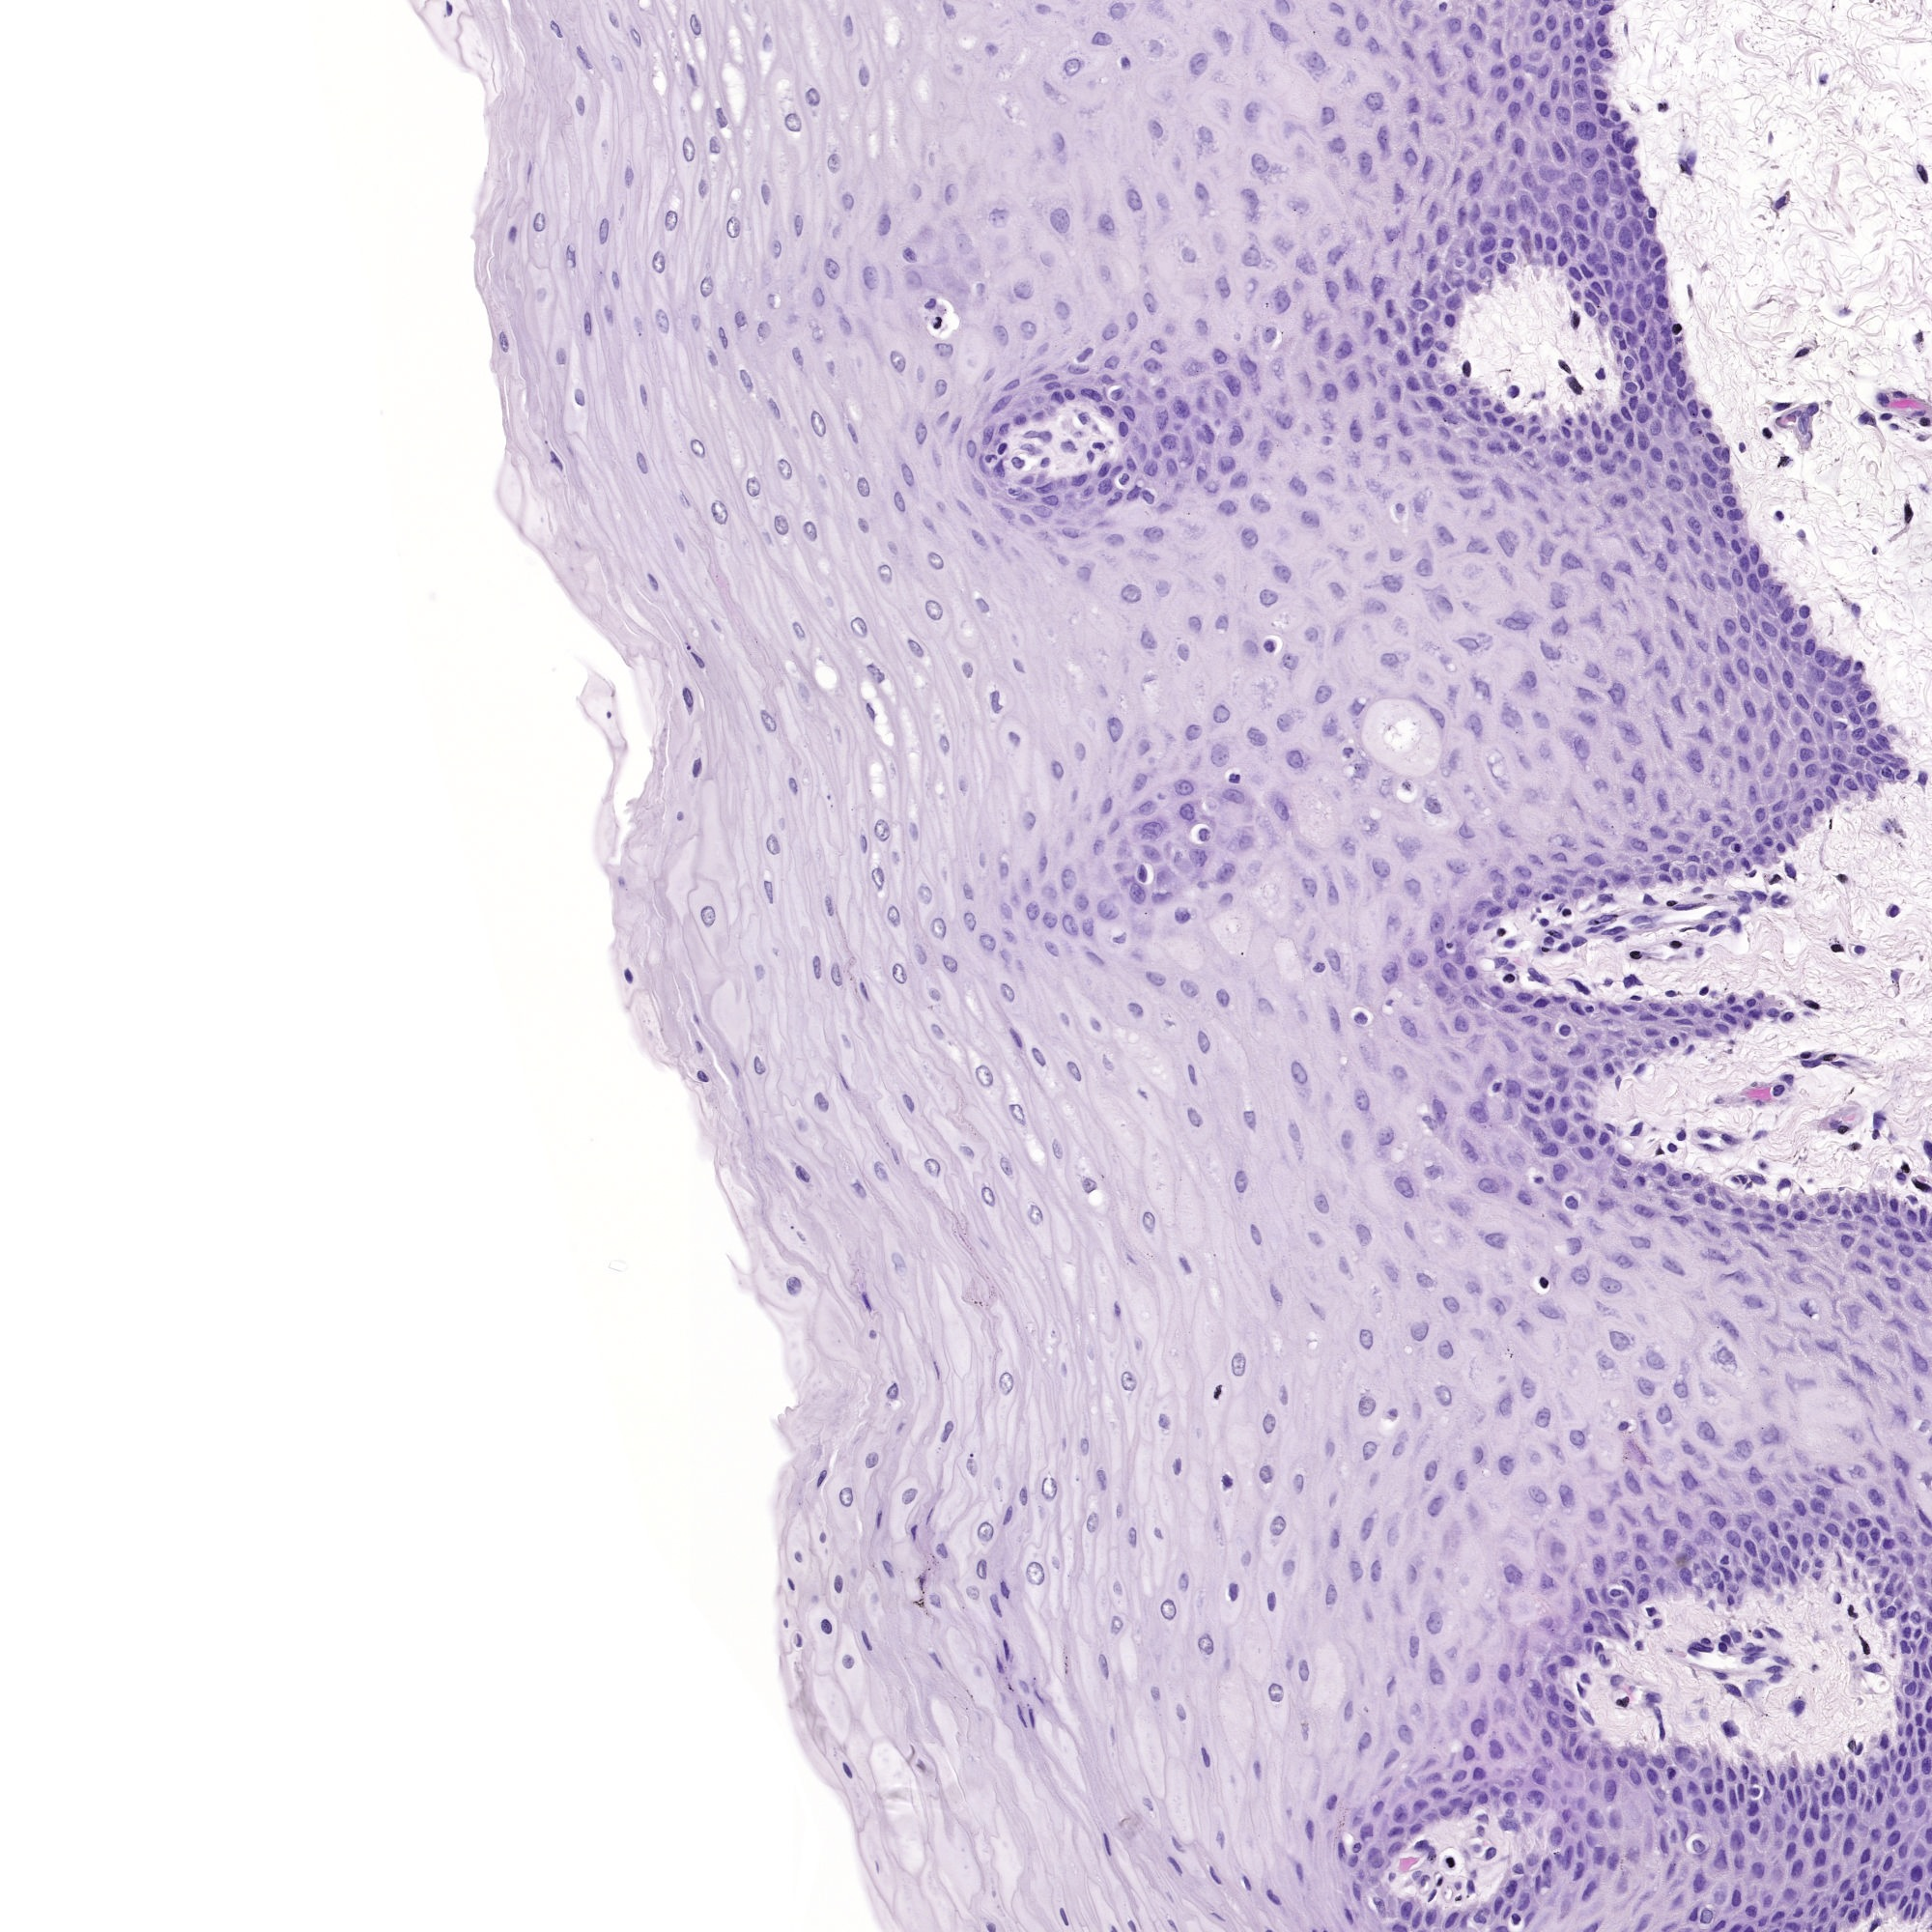apoptosis / civiatte body: (1449, 416, 1458, 419)
epithelial: (1102, 909, 1115, 916), (1504, 1458, 1509, 1472), (1056, 216, 1063, 225), (1437, 985, 1444, 993), (1375, 1851, 1378, 1865), (1431, 803, 1437, 812), (1115, 7, 1120, 14), (1196, 58, 1200, 69), (1044, 257, 1054, 260), (1106, 271, 1109, 281), (554, 458, 559, 465), (1341, 35, 1346, 42), (1247, 193, 1253, 200), (1477, 428, 1484, 433), (1720, 1026, 1727, 1031), (1589, 1070, 1594, 1077), (1523, 994, 1529, 1001), (1509, 1007, 1516, 1012), (1468, 971, 1476, 977), (1187, 984, 1192, 991), (918, 948, 922, 959), (1491, 1237, 1499, 1242), (1447, 1302, 1454, 1307), (1495, 1304, 1500, 1311), (1548, 1309, 1555, 1315), (1739, 1224, 1746, 1230), (1824, 1343, 1831, 1348), (1702, 1431, 1709, 1437), (1741, 1445, 1746, 1453), (1539, 1414, 1545, 1421), (1628, 1481, 1635, 1486), (1679, 1516, 1686, 1522), (1536, 1686, 1539, 1697), (1877, 1787, 1881, 1798), (1592, 1815, 1598, 1822), (587, 320, 591, 329), (1200, 324, 1203, 333), (1514, 625, 1523, 628), (1065, 529, 1074, 533), (1111, 541, 1120, 545), (1652, 1007, 1661, 1010), (1573, 1244, 1576, 1253), (1476, 1451, 1479, 1460), (1302, 1668, 1306, 1677), (1890, 1815, 1893, 1824), (1836, 1792, 1840, 1801), (1394, 1829, 1403, 1833), (1412, 1826, 1421, 1829), (1868, 1905, 1872, 1914), (860, 487, 865, 492), (1099, 469, 1104, 474), (1219, 35, 1224, 41), (1403, 4, 1408, 9), (1606, 51, 1612, 57), (1707, 479, 1713, 485), (1629, 734, 1635, 740), (1631, 1039, 1637, 1044), (1539, 1054, 1545, 1060), (1562, 1102, 1568, 1108), (1387, 971, 1392, 977), (1460, 1021, 1465, 1026), (1134, 1007, 1139, 1012), (1005, 989, 1010, 994), (948, 961, 954, 966), (878, 1171, 883, 1177), (791, 1284, 796, 1290), (1401, 1185, 1407, 1191), (1557, 1168, 1562, 1173), (1608, 1283, 1614, 1288), (1709, 1224, 1714, 1230), (1845, 1238, 1851, 1244), (1891, 1283, 1897, 1288), (1798, 1253, 1803, 1258), (1686, 1481, 1691, 1486), (1755, 1476, 1760, 1481), (1433, 1504, 1438, 1509), (1702, 1771, 1707, 1776), (1527, 1859, 1532, 1865), (1155, 127, 1159, 134), (828, 267, 832, 274), (1258, 163, 1261, 170), (1435, 58, 1438, 65), (1221, 283, 1224, 290), (1472, 180, 1476, 188), (1506, 257, 1513, 260), (1622, 237, 1626, 244), (1698, 706, 1706, 709), (1150, 534, 1157, 538), (1472, 722, 1476, 729), (1622, 564, 1626, 571), (1638, 771, 1642, 778), (1039, 511, 1046, 515), (1083, 571, 1086, 579), (1410, 839, 1414, 846), (1486, 1072, 1490, 1079), (1474, 1108, 1477, 1115), (1090, 954, 1097, 957), (819, 1099, 823, 1106), (759, 1065, 763, 1072), (1293, 1129, 1297, 1136), (1444, 1345, 1447, 1352), (1601, 1201, 1608, 1205), (1619, 1336, 1622, 1343), (1916, 1300, 1920, 1307), (1750, 1299, 1753, 1306), (1859, 1364, 1867, 1368), (1794, 1382, 1808, 1384), (1644, 1384, 1647, 1391), (1633, 1451, 1637, 1458), (1442, 1394, 1445, 1401), (1591, 1594, 1594, 1601), (1884, 1760, 1888, 1767), (1789, 1792, 1792, 1799), (1495, 1750, 1499, 1757), (1821, 1854, 1824, 1861), (1398, 1812, 1401, 1819), (1364, 1828, 1368, 1835), (1389, 1755, 1392, 1762), (1154, 48, 1157, 53), (1201, 191, 1205, 196), (1132, 198, 1136, 203), (1185, 253, 1189, 258), (996, 218, 1001, 221), (1155, 345, 1161, 349), (1106, 377, 1109, 382), (1104, 407, 1108, 412), (1315, 60, 1318, 65), (1407, 50, 1410, 55), (1338, 143, 1341, 149), (1408, 154, 1412, 159), (1456, 173, 1461, 177), (1599, 92, 1603, 97), (1628, 161, 1631, 166), (1537, 189, 1541, 195), (1637, 196, 1642, 200), (1642, 414, 1645, 419), (1180, 405, 1184, 410), (1435, 403, 1440, 407), (1168, 441, 1169, 451), (1421, 405, 1424, 410), (1562, 458, 1566, 464), (1711, 464, 1716, 467), (1875, 759, 1881, 763), (1767, 628, 1773, 632), (1778, 807, 1783, 810), (1702, 732, 1706, 738), (1230, 794, 1235, 798), (1442, 529, 1445, 534), (1461, 474, 1465, 479), (1504, 540, 1507, 545), (1440, 605, 1445, 609), (1557, 594, 1560, 600), (1697, 525, 1700, 531), (1675, 635, 1679, 640), (1024, 517, 1028, 522), (860, 524, 863, 529), (1010, 734, 1014, 740), (1150, 828, 1154, 833), (1079, 901, 1083, 906), (1178, 915, 1184, 918), (1522, 872, 1525, 878), (1638, 842, 1642, 847), (1575, 1005, 1578, 1010), (1559, 1083, 1562, 1088), (1582, 1100, 1587, 1104), (1534, 1093, 1539, 1097), (1486, 924, 1490, 929), (1394, 920, 1398, 925), (1334, 957, 1338, 962), (1470, 1001, 1474, 1007), (1442, 1026, 1445, 1031), (1405, 1023, 1408, 1028), (1295, 1069, 1299, 1074), (1221, 994, 1224, 1000), (908, 1100, 911, 1106), (1256, 1235, 1260, 1240), (1391, 1270, 1394, 1276), (1362, 1231, 1366, 1237), (1384, 1134, 1389, 1138), (1465, 1150, 1470, 1154), (1422, 1277, 1426, 1283), (1525, 1120, 1529, 1125), (1546, 1150, 1552, 1154), (1658, 1168, 1663, 1171), (1698, 1196, 1702, 1201), (1881, 1242, 1886, 1246), (1923, 1261, 1927, 1267), (1897, 1322, 1902, 1325), (1806, 1306, 1810, 1311), (1729, 1325, 1732, 1330), (1918, 1361, 1923, 1364), (1663, 1412, 1667, 1417), (1555, 1449, 1559, 1454), (1430, 1468, 1433, 1474), (1835, 1474, 1840, 1477), (1100, 1474, 1104, 1479), (869, 1458, 874, 1461), (835, 1582, 839, 1587), (1355, 1566, 1357, 1576), (1371, 1477, 1375, 1483), (1599, 1513, 1603, 1518), (1599, 1560, 1603, 1566), (1552, 1668, 1555, 1674), (1640, 1560, 1644, 1566), (1640, 1539, 1644, 1545), (1707, 1497, 1711, 1502), (1706, 1562, 1709, 1568), (1875, 1587, 1881, 1591), (1859, 1773, 1863, 1778), (1902, 1851, 1905, 1856), (1914, 1870, 1918, 1875), (1698, 1879, 1702, 1884), (1737, 1838, 1741, 1844), (1594, 1783, 1598, 1789), (1537, 1773, 1541, 1778), (1437, 1792, 1442, 1796), (1417, 1803, 1421, 1808), (1307, 1829, 1311, 1835), (1415, 1918, 1419, 1923), (1495, 1902, 1499, 1907), (847, 21, 849, 30), (559, 350, 561, 359), (662, 318, 663, 327), (642, 391, 644, 400), (1283, 299, 1284, 308), (1414, 959, 1422, 961), (971, 1465, 973, 1474), (1332, 1589, 1334, 1598), (1412, 1573, 1414, 1582), (1504, 1668, 1506, 1677), (1683, 1824, 1684, 1833), (1642, 1897, 1651, 1898), (1100, 39, 1104, 42), (1070, 65, 1074, 69), (1058, 140, 1062, 143), (1164, 202, 1168, 205), (913, 189, 916, 193), (961, 241, 964, 244), (870, 276, 874, 280), (796, 354, 800, 357), (747, 375, 748, 382), (709, 354, 711, 361), (642, 460, 644, 467), (908, 474, 911, 478), (989, 373, 993, 377), (1150, 364, 1154, 368), (1279, 34, 1283, 37), (1373, 44, 1376, 48), (1251, 106, 1253, 113), (1428, 165, 1430, 172), (1412, 126, 1415, 129), (1495, 44, 1497, 51), (1306, 264, 1309, 267), (1348, 281, 1352, 285), (1376, 281, 1378, 288), (1421, 239, 1422, 246), (1545, 110, 1548, 113), (1545, 172, 1552, 173), (1562, 209, 1566, 212), (1637, 226, 1640, 230), (1472, 287, 1476, 290), (1453, 299, 1456, 303), (1389, 306, 1392, 310), (1569, 241, 1571, 248), (1656, 251, 1660, 255), (1594, 287, 1598, 290), (1626, 315, 1629, 318), (1628, 361, 1631, 364), (1192, 368, 1196, 372), (1403, 356, 1405, 363), (1534, 430, 1537, 433), (1329, 391, 1332, 395), (1205, 432, 1207, 439), (1226, 464, 1230, 467), (1267, 446, 1269, 453), (1378, 407, 1380, 414), (1490, 446, 1493, 449), (1833, 685, 1836, 688), (1806, 732, 1810, 736), (1141, 449, 1143, 456), (1132, 490, 1136, 494), (1146, 640, 1150, 644), (1486, 513, 1490, 517), (1529, 494, 1532, 497), (1389, 660, 1392, 663), (1483, 686, 1486, 690), (1507, 715, 1511, 718), (1610, 580, 1614, 584), (1661, 559, 1663, 566), (1767, 711, 1769, 718), (1007, 513, 1010, 517), (1056, 764, 1058, 771), (706, 915, 709, 918), (828, 906, 832, 909), (1005, 908, 1007, 915), (1069, 876, 1070, 883), (1138, 893, 1141, 897), (1240, 839, 1244, 842), (780, 522, 782, 529), (1663, 865, 1667, 869), (1658, 832, 1661, 835), (1725, 839, 1729, 842), (1688, 1008, 1691, 1012), (1644, 1016, 1651, 1017), (1629, 1007, 1633, 1010), (1658, 1042, 1661, 1046), (1631, 1051, 1635, 1054), (1606, 1067, 1610, 1070), (1557, 1069, 1560, 1072), (1530, 1106, 1534, 1109), (1509, 1088, 1513, 1092), (1559, 1125, 1562, 1129), (1438, 947, 1442, 950), (1334, 1016, 1336, 1023), (1362, 1100, 1364, 1108), (1300, 1016, 1304, 1019), (1191, 1072, 1194, 1076), (1194, 1116, 1198, 1120), (985, 939, 989, 943), (1072, 1067, 1076, 1070), (1039, 1056, 1042, 1060), (934, 1030, 938, 1033), (835, 971, 837, 978), (1086, 1182, 1090, 1185), (1146, 1221, 1150, 1224), (1318, 1203, 1322, 1207), (1311, 1237, 1315, 1240), (1316, 1309, 1320, 1313), (1368, 1336, 1369, 1343), (1431, 1169, 1435, 1173), (1537, 1132, 1541, 1136), (1621, 1182, 1624, 1185), (1576, 1274, 1580, 1277), (1477, 1330, 1481, 1334), (1709, 1254, 1716, 1256), (1714, 1203, 1718, 1207), (1764, 1226, 1767, 1230), (1766, 1215, 1769, 1219), (1783, 1210, 1787, 1214), (1863, 1200, 1867, 1203), (1891, 1219, 1895, 1223), (1905, 1249, 1909, 1253), (1852, 1313, 1854, 1320), (1898, 1410, 1902, 1414), (1723, 1355, 1727, 1359), (1679, 1389, 1683, 1392), (1769, 1435, 1773, 1438), (1576, 1435, 1578, 1442), (1686, 1447, 1690, 1451), (1644, 1424, 1645, 1431), (1856, 1472, 1859, 1476), (1874, 1460, 1877, 1463), (1898, 1463, 1905, 1465), (1283, 1391, 1284, 1398), (1267, 1422, 1269, 1430), (1237, 1361, 1238, 1368), (1299, 1479, 1300, 1486), (821, 1476, 824, 1479), (1394, 1601, 1398, 1605), (1451, 1652, 1454, 1656), (1511, 1571, 1514, 1575), (1539, 1495, 1543, 1499), (1472, 1670, 1474, 1677), (1688, 1550, 1691, 1553), (1683, 1575, 1686, 1578), (1644, 1576, 1647, 1580), (1727, 1573, 1730, 1576), (1759, 1532, 1762, 1536), (1750, 1548, 1753, 1552), (1773, 1548, 1776, 1552), (1773, 1527, 1776, 1530), (1766, 1495, 1769, 1499), (1882, 1522, 1886, 1525), (1874, 1532, 1877, 1536), (1904, 1647, 1907, 1651), (1548, 1736, 1550, 1743), (1640, 1759, 1644, 1762), (1651, 1771, 1652, 1778), (1679, 1755, 1683, 1759), (1691, 1762, 1693, 1769), (1729, 1773, 1732, 1776), (1808, 1835, 1810, 1842), (1663, 1845, 1667, 1849), (1753, 1822, 1757, 1826), (1566, 1856, 1568, 1863), (1589, 1836, 1591, 1844), (1463, 1787, 1467, 1790), (1392, 1845, 1396, 1849), (1408, 1780, 1412, 1783), (1256, 1764, 1258, 1771), (844, 1767, 847, 1771), (1789, 1893, 1792, 1897), (1877, 1897, 1881, 1900), (612, 18, 614, 23), (580, 103, 582, 108), (718, 115, 720, 120), (511, 232, 513, 237), (950, 7, 952, 12), (1203, 133, 1205, 138), (1108, 223, 1109, 228), (764, 189, 766, 195), (847, 200, 849, 205), (1150, 299, 1152, 304), (1129, 410, 1131, 416), (998, 467, 1000, 472), (1028, 479, 1030, 485), (1327, 113, 1329, 119), (1371, 101, 1376, 103), (1456, 25, 1458, 30), (1476, 30, 1477, 35), (1516, 81, 1518, 87), (1589, 41, 1591, 46), (1431, 209, 1433, 214), (1500, 94, 1506, 96), (1619, 138, 1621, 143), (1431, 262, 1433, 267), (1548, 218, 1550, 223), (1693, 405, 1695, 410), (1320, 336, 1322, 341), (1343, 349, 1348, 350), (1382, 334, 1384, 340), (1415, 343, 1417, 349), (1350, 379, 1352, 384), (1238, 479, 1240, 485), (1467, 442, 1472, 444), (1582, 455, 1587, 456), (1679, 446, 1681, 451), (1898, 761, 1904, 763), (1723, 644, 1725, 649), (1744, 665, 1746, 671), (1801, 701, 1803, 706), (1824, 752, 1826, 757), (1833, 778, 1835, 784), (1743, 731, 1744, 736), (1663, 734, 1665, 740), (1129, 460, 1131, 465), (1150, 465, 1152, 471), (943, 741, 945, 747), (1108, 803, 1109, 809), (1028, 817, 1030, 823), (1042, 862, 1044, 867), (1152, 855, 1157, 856), (899, 497, 901, 502), (1435, 920, 1437, 925), (1481, 904, 1486, 906), (1640, 879, 1645, 881), (1670, 1012, 1675, 1014), (1683, 1021, 1688, 1023), (1649, 1031, 1654, 1033), (1539, 1003, 1545, 1005), (1546, 1026, 1548, 1031), (1548, 1102, 1550, 1108), (1438, 1109, 1440, 1115), (1203, 1039, 1205, 1044), (1154, 980, 1159, 982), (1053, 947, 1054, 952), (628, 973, 630, 978), (1116, 1307, 1118, 1313), (1573, 1136, 1575, 1141), (1583, 1152, 1589, 1154), (1589, 1129, 1591, 1134), (1605, 1136, 1606, 1141), (1644, 1210, 1649, 1212), (1913, 1215, 1914, 1221), (1884, 1260, 1890, 1261), (1654, 1355, 1656, 1361), (1566, 1490, 1568, 1495), (1366, 1403, 1368, 1408), (1368, 1447, 1369, 1453), (1329, 1447, 1330, 1453), (847, 1658, 849, 1663), (1376, 1569, 1378, 1575), (1596, 1615, 1601, 1617), (1704, 1537, 1709, 1539), (1739, 1575, 1741, 1580), (1801, 1504, 1803, 1509), (1854, 1507, 1859, 1509), (1916, 1615, 1918, 1621), (1555, 1720, 1557, 1725), (1568, 1720, 1569, 1725), (1580, 1752, 1582, 1757), (1928, 1783, 1930, 1789), (1911, 1787, 1913, 1792), (1893, 1787, 1895, 1792), (1847, 1847, 1849, 1852), (1852, 1785, 1854, 1790), (1826, 1794, 1828, 1799), (1813, 1806, 1815, 1812), (1716, 1783, 1718, 1789), (1656, 1810, 1661, 1812), (1757, 1868, 1759, 1874), (1614, 1815, 1615, 1821), (1557, 1836, 1559, 1842), (1598, 1854, 1599, 1859), (1516, 1867, 1518, 1872), (1477, 1771, 1479, 1776), (1458, 1776, 1463, 1778), (1442, 1810, 1447, 1812), (1507, 1824, 1513, 1826), (1509, 1884, 1514, 1886), (1403, 1730, 1405, 1736), (1182, 1711, 1184, 1716), (1221, 1835, 1223, 1840), (1272, 1893, 1274, 1898), (1359, 1891, 1361, 1897), (1529, 1914, 1530, 1920), (1621, 1882, 1622, 1888), (1891, 1884, 1897, 1886), (448, 7, 449, 11), (713, 145, 715, 149), (1042, 7, 1044, 11), (908, 253, 909, 257), (1019, 287, 1021, 290), (1063, 310, 1065, 313), (817, 295, 819, 299), (635, 322, 639, 324), (943, 350, 947, 352), (1012, 384, 1016, 386), (1000, 403, 1003, 405), (1021, 418, 1023, 421), (1046, 377, 1049, 379), (1051, 384, 1054, 386), (1069, 395, 1072, 396), (1077, 368, 1079, 372), (1090, 393, 1093, 395), (984, 467, 985, 471), (1284, 5, 1286, 9), (1361, 18, 1362, 21), (1481, 12, 1483, 16), (1495, 71, 1499, 73), (1514, 60, 1516, 64), (1537, 35, 1539, 39), (1543, 71, 1545, 74), (1605, 9, 1608, 11), (1580, 90, 1582, 94), (1576, 71, 1580, 73), (1247, 257, 1251, 258), (1513, 108, 1514, 111), (1594, 64, 1596, 67), (1580, 42, 1582, 46), (1606, 120, 1608, 124), (1615, 117, 1619, 119), (1612, 150, 1614, 154), (1557, 150, 1559, 154), (1599, 175, 1601, 179), (1615, 166, 1617, 170), (1619, 188, 1621, 191), (1599, 195, 1601, 198), (1527, 202, 1529, 205), (1470, 246, 1472, 249), (1580, 219, 1582, 223), (1484, 271, 1486, 274), (1445, 288, 1447, 292), (1431, 294, 1433, 297), (1525, 246, 1527, 249), (1642, 242, 1644, 246), (1660, 265, 1663, 267), (1645, 297, 1647, 301), (1622, 341, 1624, 345), (1658, 313, 1660, 317), (1649, 373, 1651, 377), (1246, 366, 1247, 370), (1426, 343, 1430, 345), (1428, 379, 1430, 382), (1449, 391, 1453, 393), (1474, 393, 1477, 395), (1518, 428, 1520, 432), (1541, 437, 1543, 441), (1578, 433, 1580, 437), (1327, 439, 1329, 442), (1514, 444, 1516, 448), (1654, 425, 1656, 428), (1727, 453, 1729, 456), (1723, 471, 1725, 474), (1736, 513, 1737, 517), (1736, 575, 1737, 579), (1753, 582, 1755, 586), (1766, 587, 1767, 591), (1785, 614, 1789, 616), (1808, 646, 1810, 649), (1821, 658, 1824, 660), (1842, 671, 1844, 674), (1872, 706, 1874, 709), (1884, 741, 1886, 745), (1875, 747, 1877, 750), (1902, 775, 1905, 777), (1886, 771, 1890, 773), (1854, 717, 1856, 720), (1836, 704, 1838, 708), (1760, 639, 1762, 642), (1732, 626, 1734, 630), (1729, 676, 1730, 679), (1787, 676, 1789, 679), (1819, 718, 1821, 722), (1806, 754, 1808, 757), (1840, 727, 1844, 729), (1838, 752, 1840, 755), (1838, 768, 1842, 770), (1773, 736, 1775, 740), (1760, 812, 1762, 816), (1801, 794, 1805, 796), (1829, 791, 1831, 794), (1637, 492, 1638, 495), (1258, 501, 1260, 504), (1127, 591, 1129, 594), (1162, 586, 1164, 589), (1279, 809, 1281, 812), (1295, 757, 1297, 761), (1254, 732, 1256, 736), (1323, 694, 1327, 695), (1336, 587, 1338, 591), (1378, 605, 1380, 609), (1468, 494, 1470, 497), (1504, 487, 1506, 490), (1440, 715, 1444, 717), (1548, 651, 1552, 653), (1672, 543, 1674, 547), (1670, 603, 1672, 607), (1585, 718, 1589, 720), (1583, 690, 1585, 694), (1619, 692, 1621, 695), (1051, 501, 1054, 502), (975, 538, 978, 540), (653, 580, 655, 584), (699, 662, 701, 665), (688, 697, 690, 701), (916, 648, 920, 649), (982, 605, 985, 607), (1115, 729, 1116, 732), (1079, 750, 1081, 754), (1030, 909, 1031, 913), (1049, 918, 1051, 922), (1069, 925, 1070, 929), (1111, 826, 1115, 828), (1196, 856, 1200, 858), (1161, 897, 1162, 901), (1309, 885, 1311, 888), (1088, 927, 1090, 931), (970, 916, 971, 920), (876, 674, 878, 678), (678, 814, 681, 816), (1376, 865, 1380, 867), (1412, 885, 1414, 888), (1504, 828, 1506, 832), (1562, 879, 1566, 881), (1594, 860, 1596, 863), (1661, 876, 1665, 878), (1677, 872, 1679, 876), (1709, 870, 1711, 874), (1737, 1007, 1741, 1008), (1707, 1014, 1711, 1016), (1704, 1031, 1707, 1033), (1578, 1051, 1580, 1054), (1606, 1053, 1610, 1054), (1591, 1035, 1592, 1039), (1506, 1042, 1509, 1044), (1449, 970, 1451, 973), (1497, 993, 1499, 996), (1399, 1070, 1403, 1072), (1251, 1116, 1253, 1120), (1008, 934, 1012, 936), (1108, 1063, 1109, 1067), (1016, 1035, 1017, 1039), (934, 994, 938, 996), (865, 989, 867, 993), (701, 1076, 702, 1079), (695, 1016, 697, 1019), (858, 1189, 862, 1191), (893, 1154, 895, 1157), (966, 1150, 970, 1152), (1005, 1164, 1007, 1168), (1058, 1148, 1060, 1152), (865, 1299, 867, 1302), (872, 1332, 874, 1336), (1184, 1261, 1185, 1265), (1274, 1292, 1276, 1295), (1343, 1267, 1346, 1269), (1348, 1139, 1350, 1143), (1408, 1230, 1410, 1233), (1488, 1185, 1490, 1189), (1419, 1329, 1421, 1332), (1525, 1196, 1527, 1200), (1562, 1219, 1566, 1221), (1640, 1242, 1644, 1244), (1622, 1260, 1624, 1263), (1525, 1327, 1529, 1329), (1672, 1178, 1674, 1182), (1672, 1267, 1674, 1270), (1760, 1247, 1762, 1251), (1764, 1203, 1767, 1205), (1798, 1215, 1799, 1219), (1794, 1200, 1796, 1203), (1822, 1196, 1824, 1200), (1831, 1208, 1833, 1212), (1868, 1219, 1872, 1221), (1902, 1235, 1905, 1237), (1844, 1226, 1847, 1228), (1863, 1251, 1867, 1253), (1861, 1265, 1865, 1267), (1874, 1297, 1875, 1300), (1794, 1276, 1798, 1277), (1605, 1359, 1606, 1362), (1525, 1387, 1527, 1391), (1506, 1405, 1507, 1408), (1656, 1479, 1658, 1483), (1900, 1486, 1902, 1490), (1417, 1408, 1419, 1412), (1399, 1447, 1401, 1451), (1265, 1474, 1267, 1477), (1162, 1421, 1166, 1422), (1136, 1341, 1138, 1345), (892, 1389, 893, 1392), (821, 1536, 823, 1539), (791, 1583, 793, 1587), (888, 1566, 890, 1569), (936, 1599, 938, 1603), (1134, 1534, 1136, 1537), (1182, 1580, 1184, 1583), (1330, 1499, 1332, 1502), (1369, 1612, 1371, 1615), (1437, 1675, 1440, 1677), (1548, 1582, 1550, 1585), (1546, 1622, 1548, 1626), (1605, 1631, 1608, 1633), (1628, 1516, 1631, 1518), (1651, 1514, 1652, 1518), (1716, 1518, 1718, 1522), (1709, 1585, 1713, 1587), (1714, 1576, 1716, 1580), (1744, 1522, 1746, 1525), (1730, 1587, 1734, 1589), (1778, 1568, 1780, 1571), (1792, 1575, 1794, 1578), (1819, 1506, 1821, 1509), (1792, 1539, 1794, 1543), (1803, 1566, 1805, 1569), (1815, 1573, 1819, 1575), (1819, 1562, 1821, 1566), (1824, 1537, 1826, 1541), (1847, 1541, 1849, 1545), (1900, 1536, 1904, 1537), (1874, 1562, 1877, 1564), (1923, 1582, 1925, 1585), (1856, 1573, 1858, 1576), (1900, 1603, 1904, 1605), (1927, 1670, 1928, 1674), (1587, 1644, 1589, 1647), (1571, 1739, 1573, 1743), (1911, 1688, 1914, 1690), (1907, 1709, 1909, 1713), (1923, 1739, 1925, 1743), (1913, 1748, 1914, 1752), (1902, 1748, 1904, 1752), (1893, 1753, 1895, 1757), (1585, 1714, 1589, 1716), (1606, 1762, 1608, 1766), (1660, 1760, 1661, 1764), (1633, 1775, 1635, 1778), (1718, 1764, 1720, 1767), (1769, 1776, 1771, 1780), (1833, 1760, 1835, 1764), (1905, 1805, 1907, 1808), (1886, 1863, 1888, 1867), (1851, 1819, 1852, 1822), (1801, 1810, 1803, 1813), (1790, 1851, 1792, 1854), (1691, 1785, 1693, 1789), (1698, 1806, 1700, 1810), (1720, 1861, 1723, 1863), (1568, 1812, 1569, 1815), (1578, 1867, 1580, 1870), (1545, 1762, 1546, 1766), (1454, 1801, 1458, 1803), (1483, 1799, 1486, 1801), (1474, 1790, 1476, 1794), (1493, 1790, 1497, 1792), (1821, 1877, 1822, 1881), (1835, 1870, 1836, 1874), (1845, 1884, 1847, 1888), (1592, 1882, 1594, 1886), (1348, 1713, 1350, 1716), (1391, 1684, 1392, 1688), (1175, 1863, 1178, 1865), (1031, 1718, 1033, 1721), (1021, 1716, 1023, 1720), (1023, 1683, 1024, 1686), (1506, 1909, 1507, 1913), (1591, 1927, 1594, 1928), (1631, 1852, 1633, 1856), (1737, 1895, 1739, 1898), (1693, 1914, 1695, 1918), (1776, 1916, 1780, 1918), (1813, 1909, 1815, 1913), (1842, 1909, 1844, 1913), (554, 27, 556, 28), (582, 57, 584, 58), (633, 35, 635, 37), (1047, 88, 1049, 90), (833, 163, 835, 165), (763, 329, 764, 331), (773, 407, 775, 409), (853, 432, 855, 433), (941, 419, 943, 421), (1039, 416, 1040, 418), (1058, 396, 1060, 398), (1113, 361, 1115, 363), (977, 485, 978, 487), (1578, 23, 1580, 25), (1580, 58, 1582, 60), (1516, 145, 1518, 147), (1601, 108, 1603, 110), (1582, 129, 1583, 131), (1527, 180, 1529, 182), (1576, 182, 1578, 184), (1580, 202, 1582, 203), (1649, 225, 1651, 226), (1488, 228, 1490, 230), (1506, 241, 1507, 242), (1500, 267, 1502, 269), (1454, 278, 1456, 280), (1419, 304, 1421, 306), (1587, 274, 1589, 276), (1591, 258, 1592, 260), (1661, 299, 1663, 301), (1638, 290, 1640, 292), (1591, 306, 1592, 308), (1651, 338, 1652, 340), (1628, 375, 1629, 377), (1631, 386, 1633, 387), (1642, 380, 1644, 382), (1706, 412, 1707, 414), (1651, 396, 1652, 398), (1161, 395, 1162, 396), (1228, 382, 1230, 384), (1424, 329, 1426, 331), (1414, 386, 1415, 387), (1488, 402, 1490, 403), (1474, 402, 1476, 403), (1472, 414, 1474, 416), (1499, 409, 1500, 410), (1491, 416, 1493, 418), (1534, 418, 1536, 419), (1566, 433, 1568, 435), (1403, 428, 1405, 430), (1403, 456, 1405, 458), (1529, 455, 1530, 456), (1674, 426, 1675, 428), (1654, 451, 1656, 453), (1713, 437, 1714, 439), (1697, 432, 1698, 433), (1693, 479, 1695, 481), (1610, 465, 1612, 467), (1601, 448, 1603, 449), (1736, 547, 1737, 548), (1861, 695, 1863, 697), (1874, 725, 1875, 727), (1744, 623, 1746, 625), (1760, 674, 1762, 676), (1785, 701, 1787, 702), (1829, 732, 1831, 734), (1872, 782, 1874, 784), (1851, 784, 1852, 786), (1743, 763, 1744, 764), (1695, 759, 1697, 761), (1691, 617, 1693, 619), (1617, 499, 1619, 501), (1295, 485, 1297, 487), (1249, 536, 1251, 538), (1307, 517, 1309, 518), (1283, 571, 1284, 573), (1184, 648, 1185, 649), (1194, 731, 1196, 732), (1219, 754, 1221, 755), (1184, 789, 1185, 791), (1309, 633, 1311, 635), (1339, 635, 1341, 637), (1391, 582, 1392, 584), (1569, 557, 1571, 559), (1695, 543, 1697, 545), (1046, 488, 1047, 490), (929, 525, 931, 527), (768, 886, 770, 888), (1099, 846, 1100, 847), (867, 709, 869, 711), (1456, 865, 1458, 867), (1534, 858, 1536, 860), (1674, 847, 1675, 849), (1681, 835, 1683, 837), (1729, 863, 1730, 865), (1693, 858, 1695, 860), (1789, 1016, 1790, 1017), (1771, 1012, 1773, 1014), (1753, 1014, 1755, 1016), (1748, 1024, 1750, 1026), (1729, 1016, 1730, 1017), (1720, 1007, 1721, 1008), (1612, 1010, 1614, 1012), (1529, 1021, 1530, 1023), (1493, 911, 1495, 913), (1454, 1054, 1456, 1056), (1263, 1005, 1265, 1007), (1095, 1024, 1097, 1026), (842, 1079, 844, 1081), (800, 1173, 801, 1175), (1472, 1284, 1474, 1286), (1578, 1116, 1580, 1118), (1612, 1127, 1614, 1129), (1622, 1159, 1624, 1161), (1610, 1150, 1612, 1152), (1601, 1306, 1603, 1307), (1660, 1185, 1661, 1187), (1672, 1203, 1674, 1205), (1679, 1219, 1681, 1221), (1709, 1189, 1711, 1191), (1789, 1224, 1790, 1226), (1808, 1203, 1810, 1205), (1847, 1214, 1849, 1215), (1856, 1207, 1858, 1208), (1895, 1203, 1897, 1205), (1916, 1235, 1918, 1237), (1918, 1392, 1920, 1394), (1847, 1378, 1849, 1380), (947, 1430, 948, 1431), (824, 1626, 826, 1628), (865, 1640, 867, 1642), (941, 1548, 943, 1550), (913, 1532, 915, 1534), (1007, 1516, 1008, 1518), (1003, 1589, 1005, 1591), (994, 1603, 996, 1605), (971, 1592, 973, 1594), (1000, 1667, 1001, 1668), (1116, 1587, 1118, 1589), (1104, 1661, 1106, 1663), (1246, 1557, 1247, 1559), (1288, 1568, 1290, 1569), (1557, 1546, 1559, 1548), (1576, 1603, 1578, 1605), (1591, 1629, 1592, 1631), (1621, 1631, 1622, 1633), (1605, 1598, 1606, 1599), (1626, 1603, 1628, 1605), (1629, 1587, 1631, 1589), (1732, 1536, 1734, 1537), (1759, 1582, 1760, 1583), (1730, 1599, 1732, 1601), (1764, 1559, 1766, 1560), (1833, 1530, 1835, 1532), (1822, 1493, 1824, 1495), (1875, 1499, 1877, 1500), (1925, 1518, 1927, 1520), (1861, 1555, 1863, 1557), (1895, 1559, 1897, 1560), (1914, 1635, 1916, 1637), (1568, 1706, 1569, 1707), (1898, 1702, 1900, 1704), (1921, 1732, 1923, 1734), (1592, 1764, 1594, 1766), (1622, 1764, 1624, 1766), (1672, 1771, 1674, 1773), (1782, 1780, 1783, 1782), (1808, 1776, 1810, 1778), (1821, 1769, 1822, 1771), (1893, 1840, 1895, 1842), (1918, 1851, 1920, 1852), (1838, 1819, 1840, 1821), (1792, 1829, 1794, 1831), (1741, 1789, 1743, 1790), (1718, 1805, 1720, 1806), (1707, 1789, 1709, 1790), (1610, 1861, 1612, 1863), (1431, 1778, 1433, 1780), (1207, 1759, 1208, 1760), (1154, 1693, 1155, 1695), (1247, 1882, 1249, 1884), (1177, 1842, 1178, 1844), (1106, 1842, 1108, 1844), (1039, 1697, 1040, 1698), (1720, 1925, 1721, 1927), (1750, 1911, 1752, 1913), (1914, 1893, 1916, 1895), (1928, 1897, 1930, 1898)
fibroblast and endothelial: (1865, 418, 1874, 421), (1730, 1686, 1736, 1691), (1773, 1631, 1780, 1635), (1065, 446, 1070, 449), (1739, 893, 1744, 897), (1741, 908, 1746, 911), (1553, 932, 1557, 938), (1808, 1001, 1813, 1005), (1580, 985, 1583, 991), (1753, 1177, 1759, 1180), (1741, 1175, 1744, 1180), (1805, 421, 1806, 428), (1702, 925, 1706, 929), (1647, 899, 1651, 902), (1635, 918, 1642, 920), (1812, 1062, 1815, 1065), (1836, 1063, 1844, 1065), (1824, 1056, 1831, 1058), (1789, 1076, 1792, 1079), (1500, 959, 1504, 962), (1709, 1146, 1713, 1150), (1762, 1164, 1766, 1168), (1755, 1631, 1759, 1635), (1736, 1635, 1739, 1638), (1695, 1647, 1698, 1651), (1780, 1661, 1783, 1665), (1727, 1729, 1730, 1732), (1651, 1695, 1654, 1698), (1479, 1828, 1483, 1831), (1046, 435, 1051, 437), (1083, 416, 1085, 421), (1467, 366, 1468, 372), (1576, 386, 1578, 391), (1704, 1131, 1706, 1136), (1757, 1134, 1762, 1136), (1918, 1184, 1923, 1185), (1865, 1645, 1867, 1651), (1851, 1608, 1852, 1614), (1044, 460, 1046, 464), (1799, 352, 1803, 354), (1844, 878, 1845, 881), (1759, 893, 1760, 897), (1713, 915, 1716, 916), (1672, 943, 1675, 945), (1562, 947, 1566, 948), (1628, 980, 1629, 984), (1637, 978, 1638, 982), (1534, 973, 1536, 977), (1895, 971, 1897, 975), (1637, 1067, 1640, 1069), (1637, 1129, 1640, 1131), (1729, 1138, 1730, 1141), (1734, 1178, 1736, 1182), (1905, 1168, 1909, 1169), (1900, 1175, 1902, 1178), (1911, 1198, 1913, 1201), (1720, 1675, 1723, 1677), (1798, 1706, 1799, 1709), (1615, 1677, 1617, 1681), (1603, 1661, 1605, 1665), (1422, 1881, 1424, 1884), (1456, 1884, 1460, 1886), (1028, 448, 1030, 449), (1090, 456, 1092, 458), (1562, 364, 1564, 366), (1886, 418, 1888, 419), (1782, 202, 1783, 203), (1716, 929, 1718, 931), (1683, 908, 1684, 909), (1578, 941, 1580, 943), (1543, 948, 1545, 950), (1511, 943, 1513, 945), (1783, 1184, 1785, 1185), (1854, 1145, 1856, 1146), (1836, 1599, 1838, 1601), (1725, 1637, 1727, 1638), (1706, 1640, 1707, 1642), (1661, 1734, 1663, 1736), (1491, 1852, 1493, 1854), (1440, 1881, 1442, 1882), (1414, 1874, 1415, 1875), (1391, 1875, 1392, 1877), (1431, 1895, 1433, 1897), (1470, 1886, 1472, 1888), (1874, 1927, 1875, 1928)
inflammatory: (1780, 515, 1782, 520), (1778, 1086, 1780, 1092), (938, 324, 939, 327), (1513, 391, 1514, 395), (1706, 1916, 1709, 1918), (1836, 948, 1838, 950), (1516, 1918, 1518, 1920)
lymphocyte: (1697, 1845, 1702, 1851), (1095, 444, 1104, 446), (1449, 315, 1451, 324), (1116, 391, 1120, 395), (994, 699, 996, 706), (1587, 1008, 1591, 1012), (1145, 497, 1150, 499), (1564, 1028, 1566, 1033), (1674, 1039, 1675, 1044), (1120, 938, 1122, 943), (1226, 1479, 1228, 1484), (987, 456, 991, 458), (1442, 5, 1444, 9), (1679, 329, 1681, 333), (1399, 506, 1401, 510), (1269, 646, 1270, 649), (1141, 872, 1143, 876), (1203, 833, 1205, 837), (1541, 922, 1545, 924), (1670, 901, 1672, 904), (1702, 989, 1704, 993), (1361, 1017, 1362, 1021), (1668, 993, 1672, 994), (1672, 1146, 1675, 1148), (1679, 1136, 1683, 1138), (1177, 1465, 1178, 1468), (1615, 1592, 1619, 1594), (1651, 1608, 1652, 1612), (1753, 1789, 1755, 1792), (1001, 448, 1003, 449), (1017, 462, 1019, 464), (1599, 373, 1601, 375), (1743, 446, 1744, 448), (1233, 778, 1235, 780), (1123, 478, 1125, 479), (1546, 897, 1548, 899), (1447, 945, 1449, 947), (1569, 1201, 1571, 1203), (1545, 1283, 1546, 1284), (1686, 1177, 1688, 1178), (1842, 1129, 1844, 1131), (1622, 1426, 1624, 1428), (798, 1640, 800, 1642), (1723, 1649, 1725, 1651)
